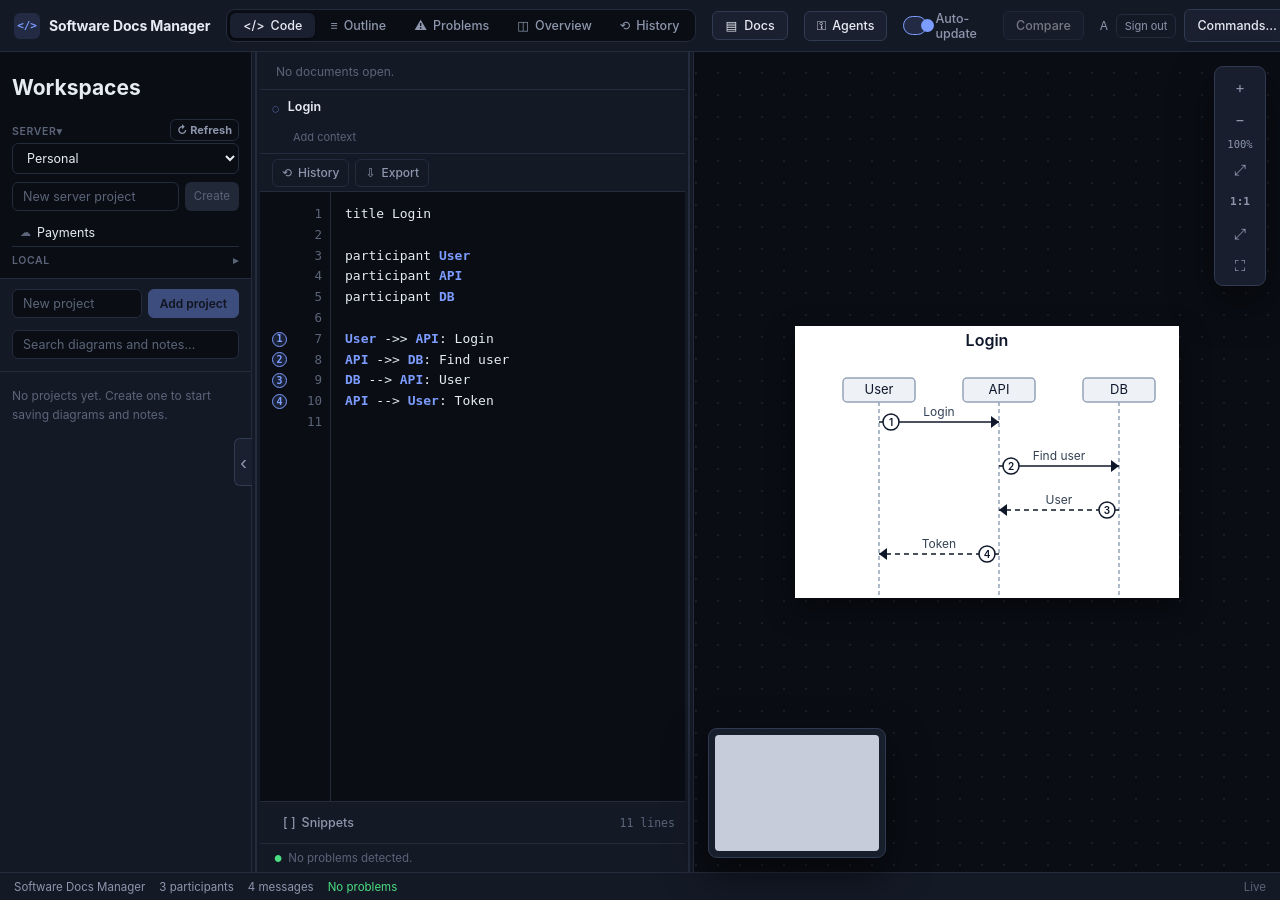
Test: App — authenticated browser › renames a server resource through the move endpoint
Click the button with test id "workspace-server-project": (126, 232) [12,219,239,246]
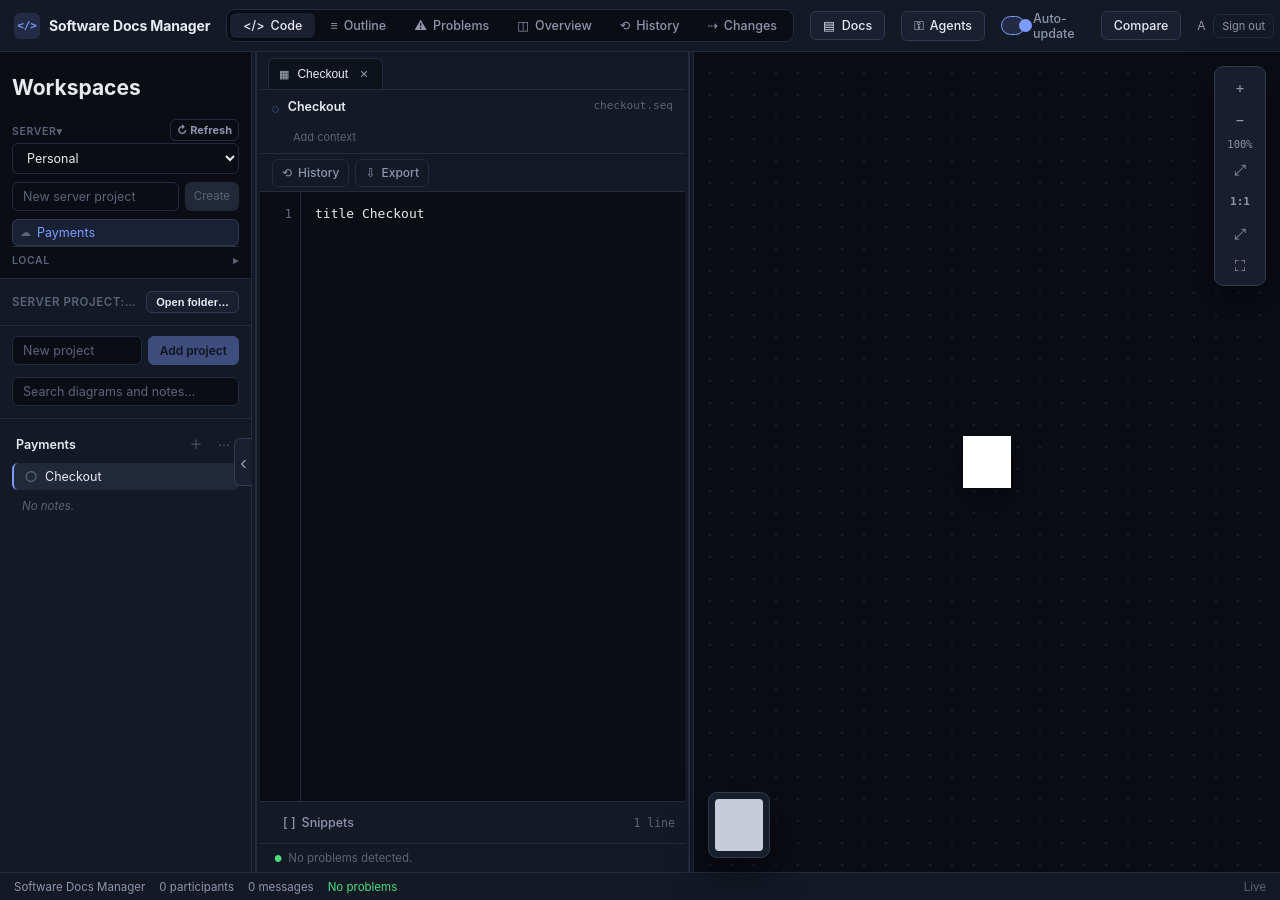
Expected: the text box with test id "dsl-textarea" holds "title Checkout", [301,192,685,801]
Right-click the list item with test id "explorer-diagram": (126, 476) [12,463,239,490]
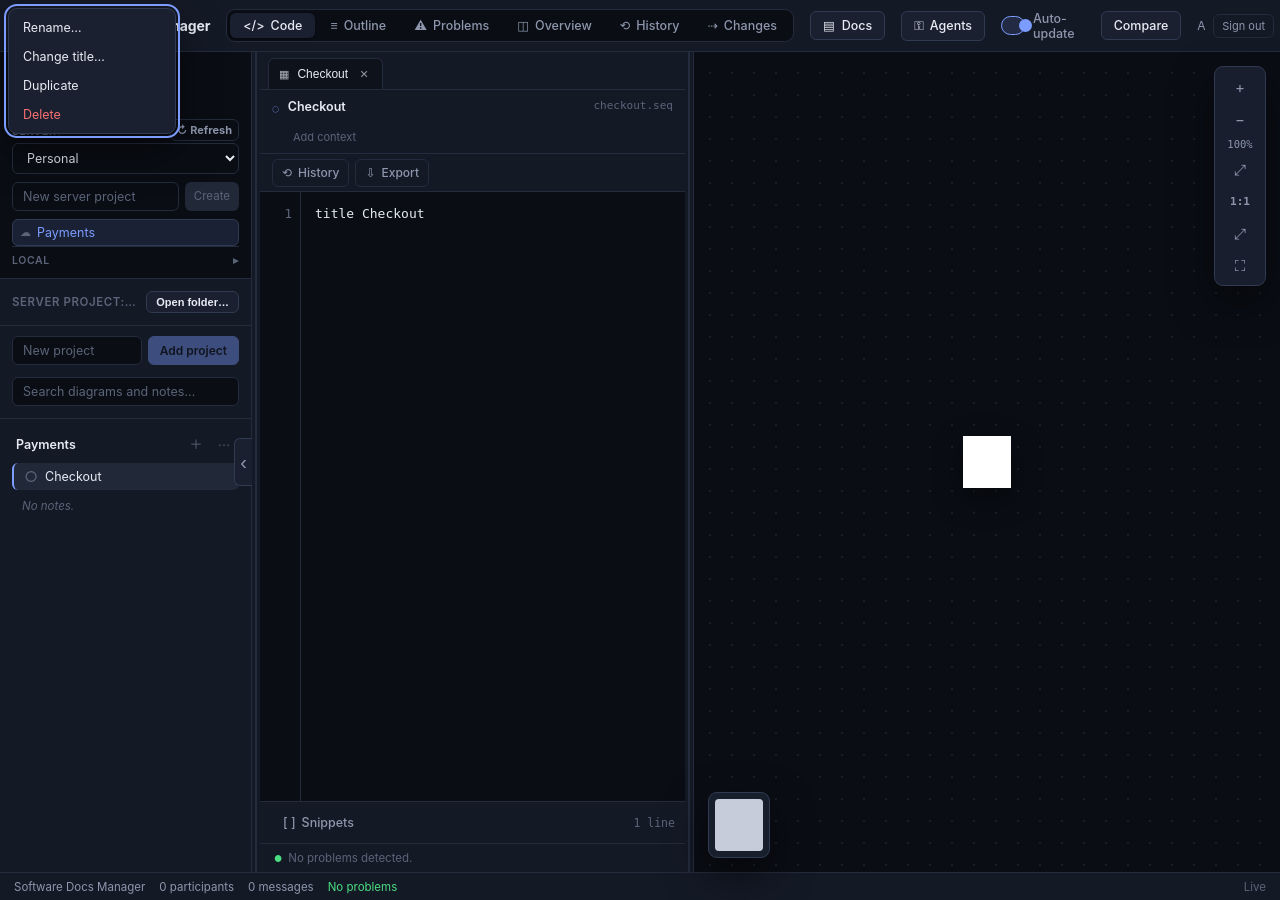
Click the menu item with test id "context-menu-rename": (92, 28) [13,13,171,42]
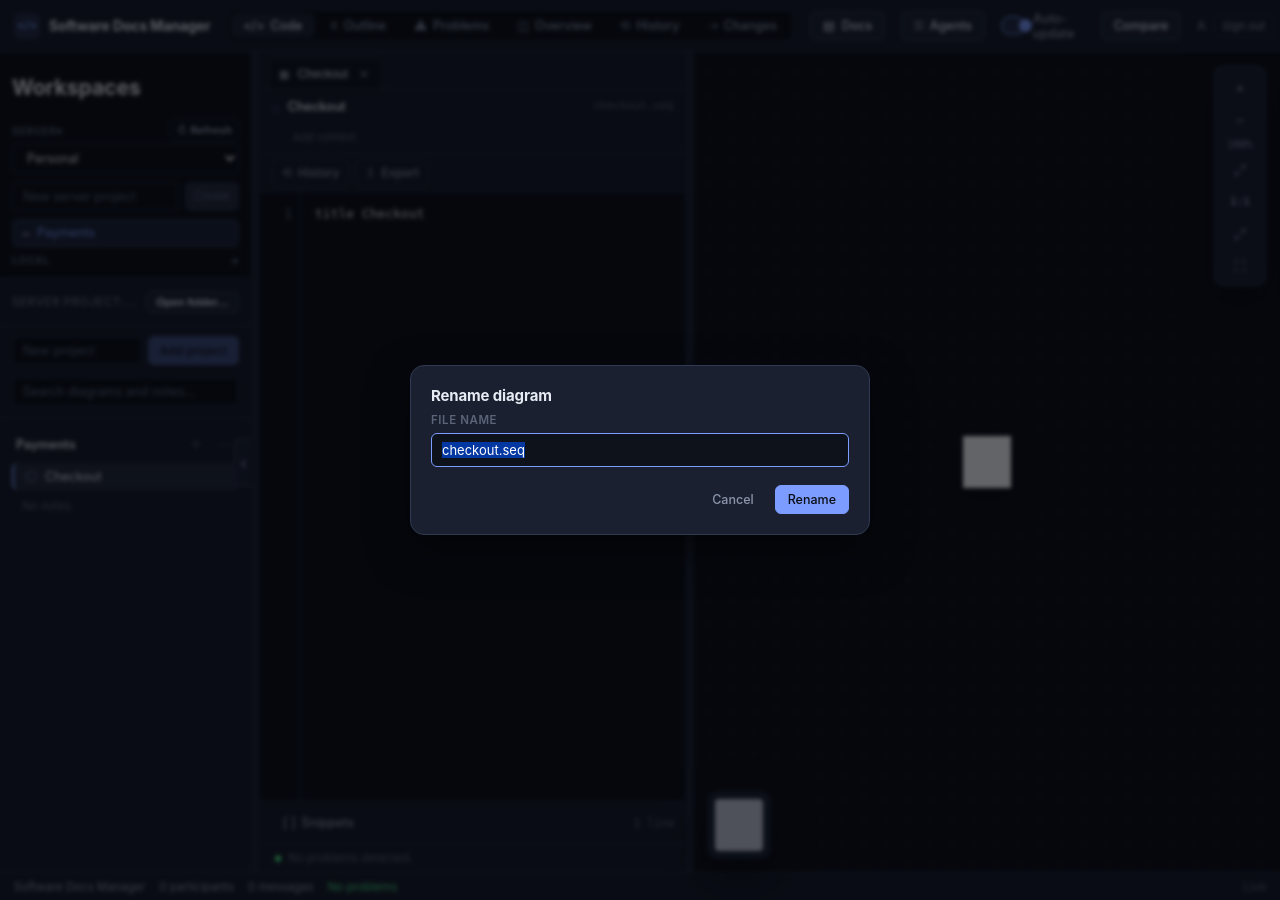
Replace the text in the field with test id "prompt-dialog-input" with "orders": (640, 450) [431,433,849,467]
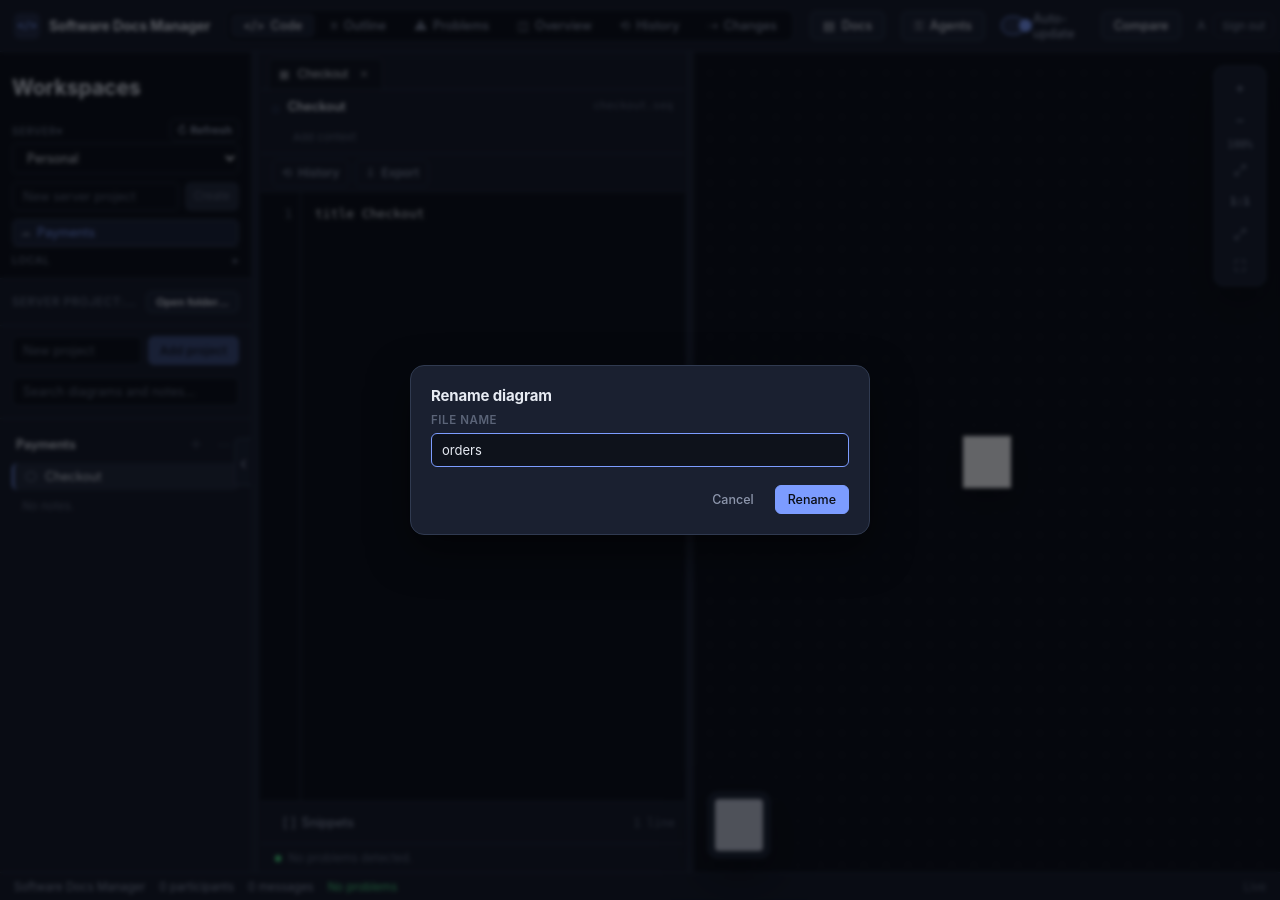
Click the button with test id "prompt-dialog-confirm": (812, 500) [775,485,849,514]
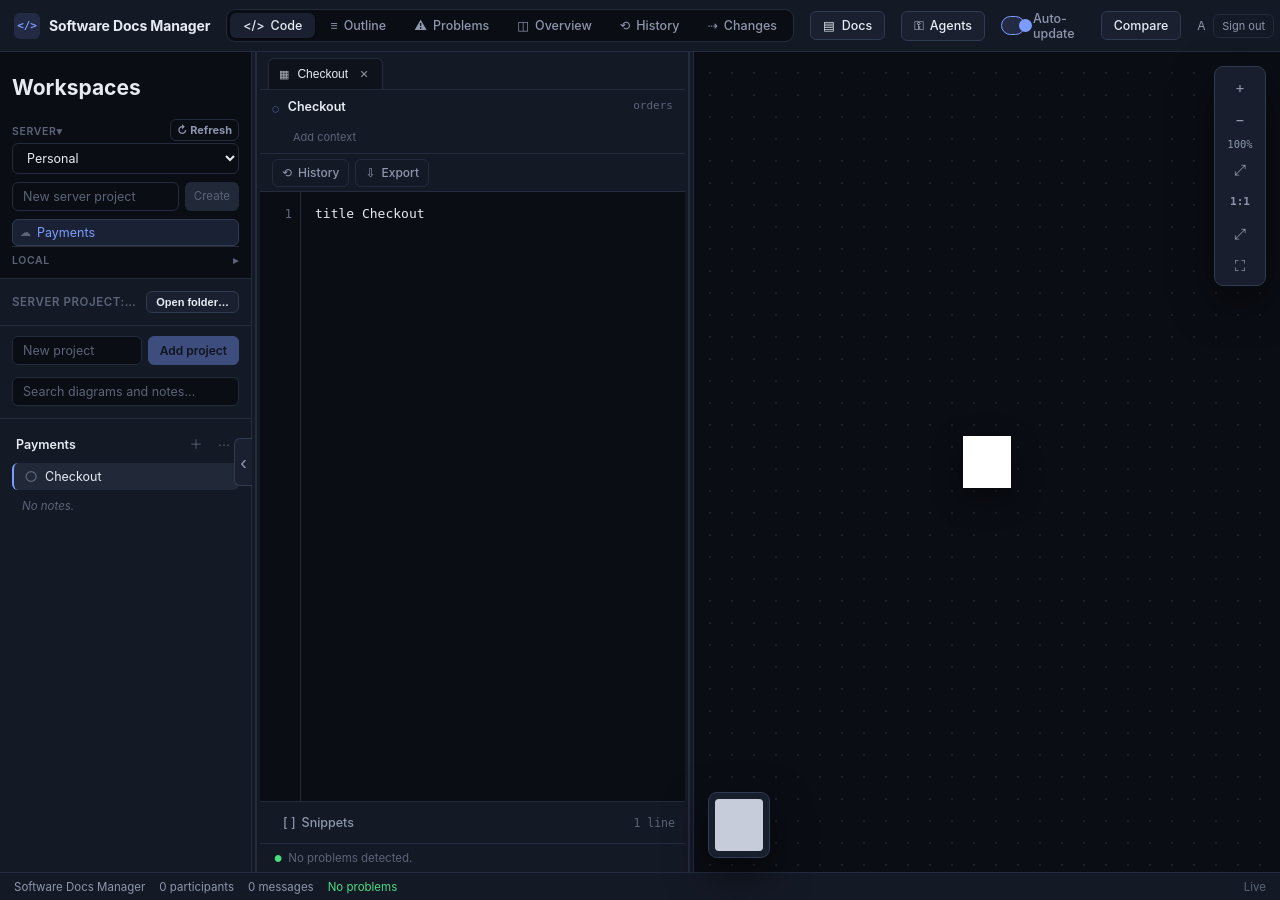
Expected: the text "orders" is shown, [633,99,673,112]
